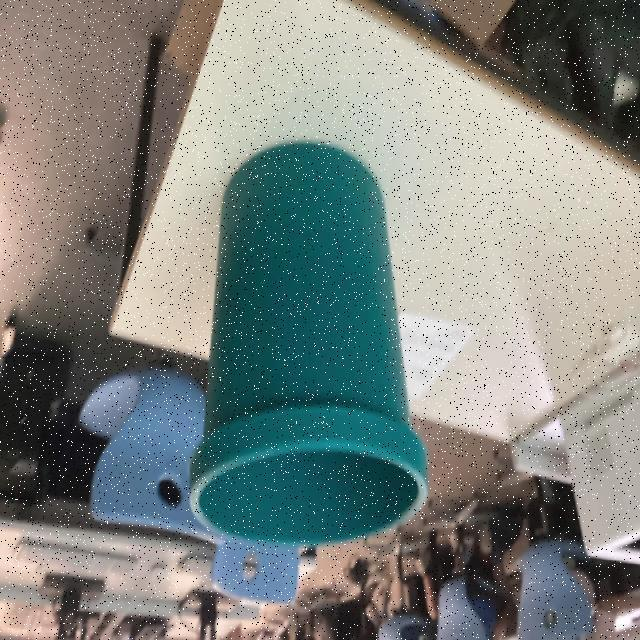garbage container: (182, 124, 438, 567)
